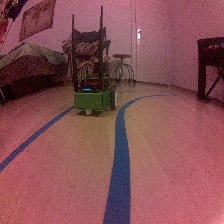rob: (72, 60, 119, 117)
